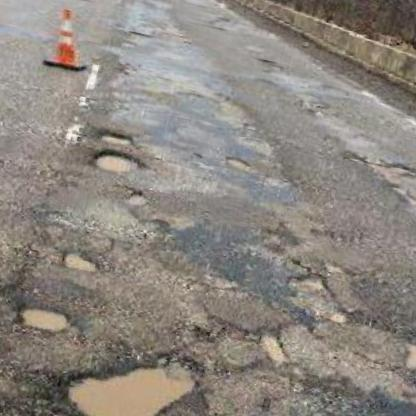pothole: (53, 330, 204, 416), (343, 150, 416, 193), (12, 298, 76, 337), (86, 144, 146, 180), (253, 328, 295, 369), (56, 246, 102, 275), (286, 267, 330, 293), (94, 122, 135, 147), (397, 338, 416, 377), (220, 150, 255, 171), (321, 304, 349, 325)
